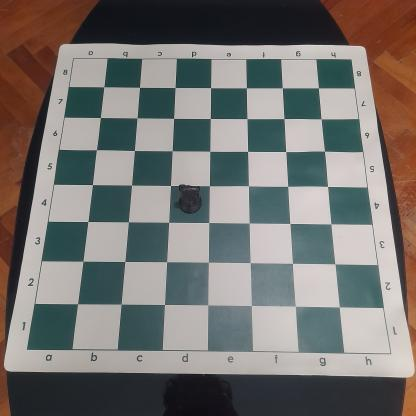black-knight: (178, 183, 203, 214)
